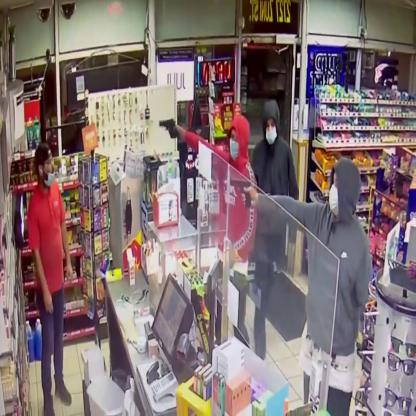Pistol: (227, 172, 255, 214), (157, 110, 181, 146)
